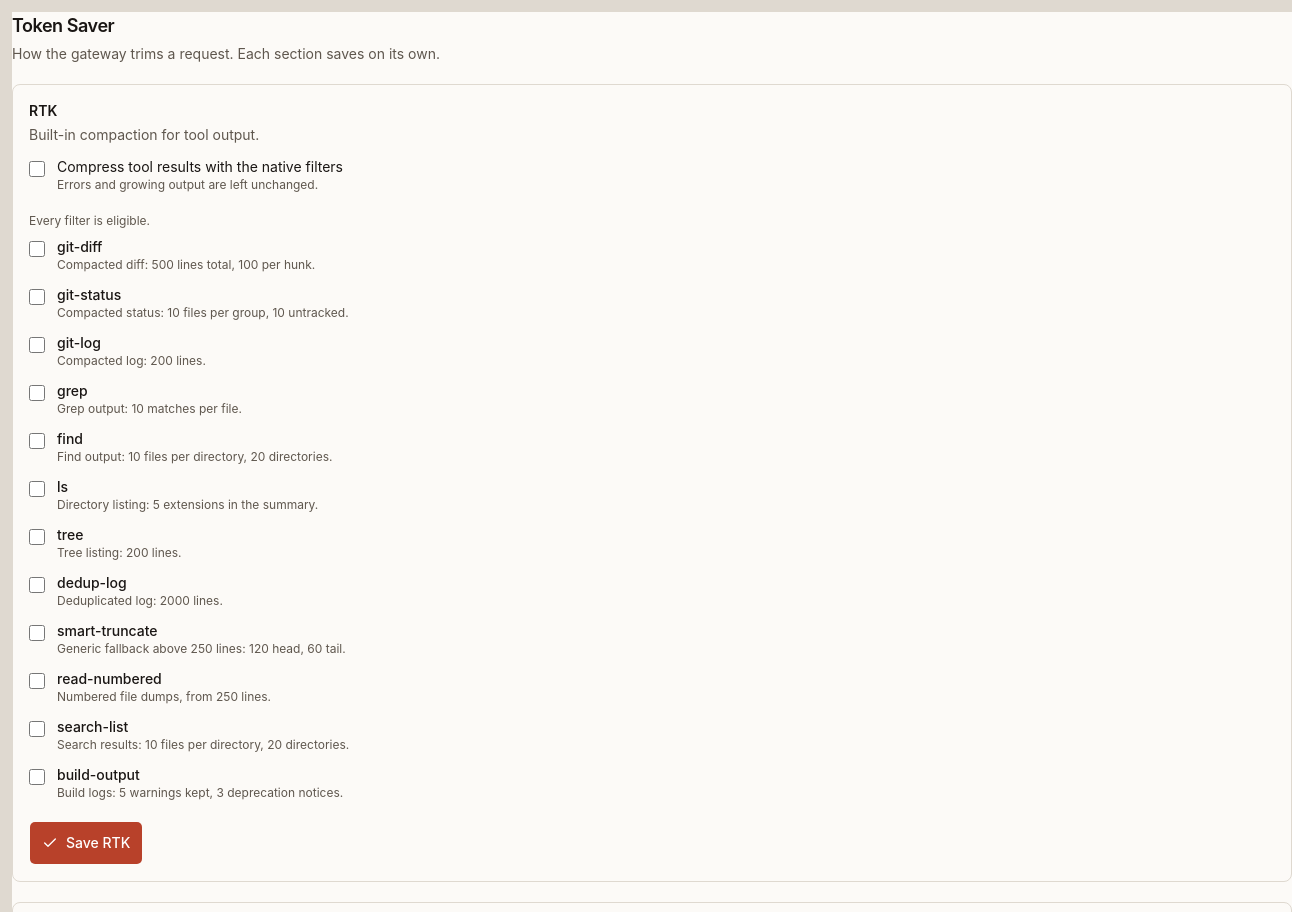
Test: TokenSaverPage saves › discards an unsaved change back to what was read
Expected: the heading "RTK" is shown, top-left (29, 102), bottom-right (57, 119)
Click the checkbox labelled "Compress tool results": coordinates (37, 169) top-left (29, 161), bottom-right (45, 177)
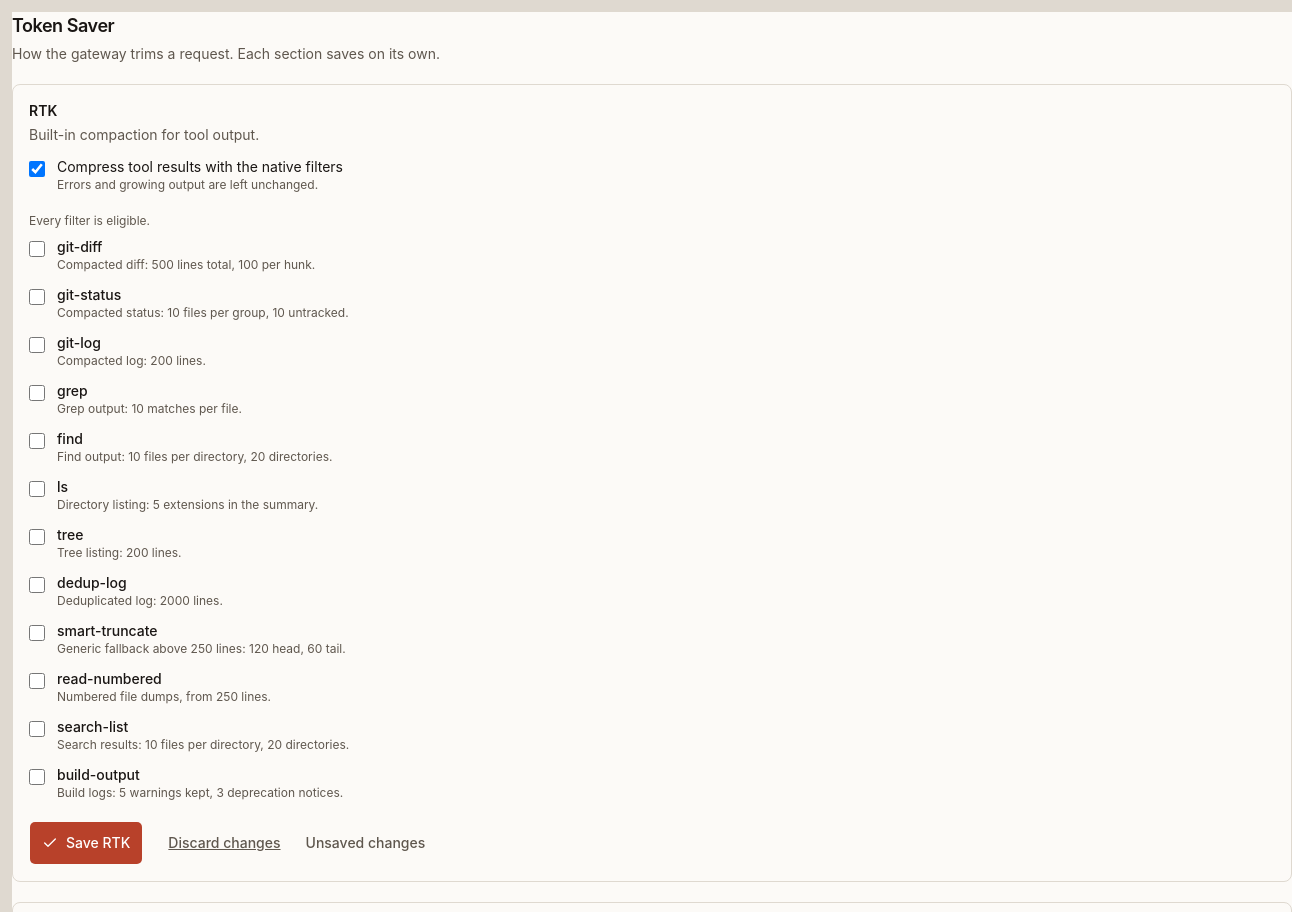
Click the button "Discard changes": coordinates (224, 843) top-left (155, 821), bottom-right (294, 865)
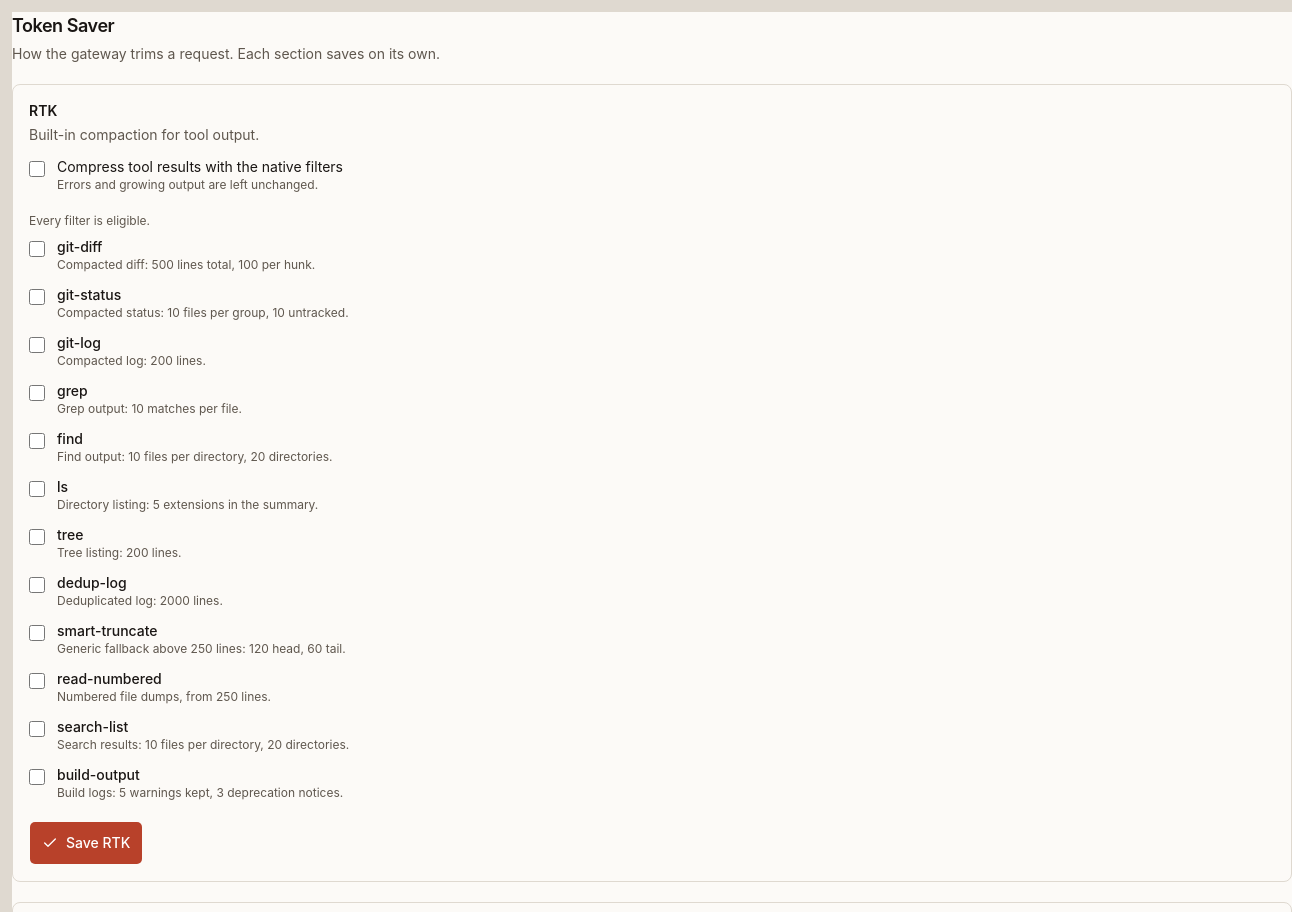
Expected: the text "Unsaved changes" is gone
